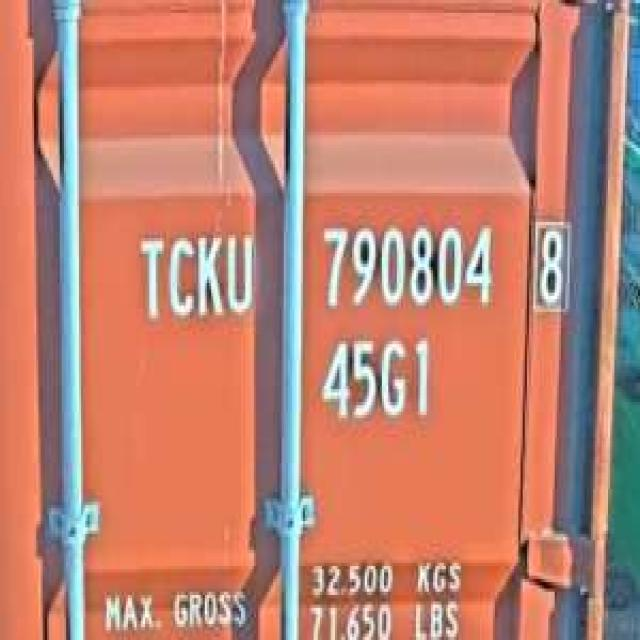dv: (529, 209, 574, 315)
owner: (132, 219, 258, 331)
serial: (314, 212, 499, 318)
size: (314, 328, 437, 431)
